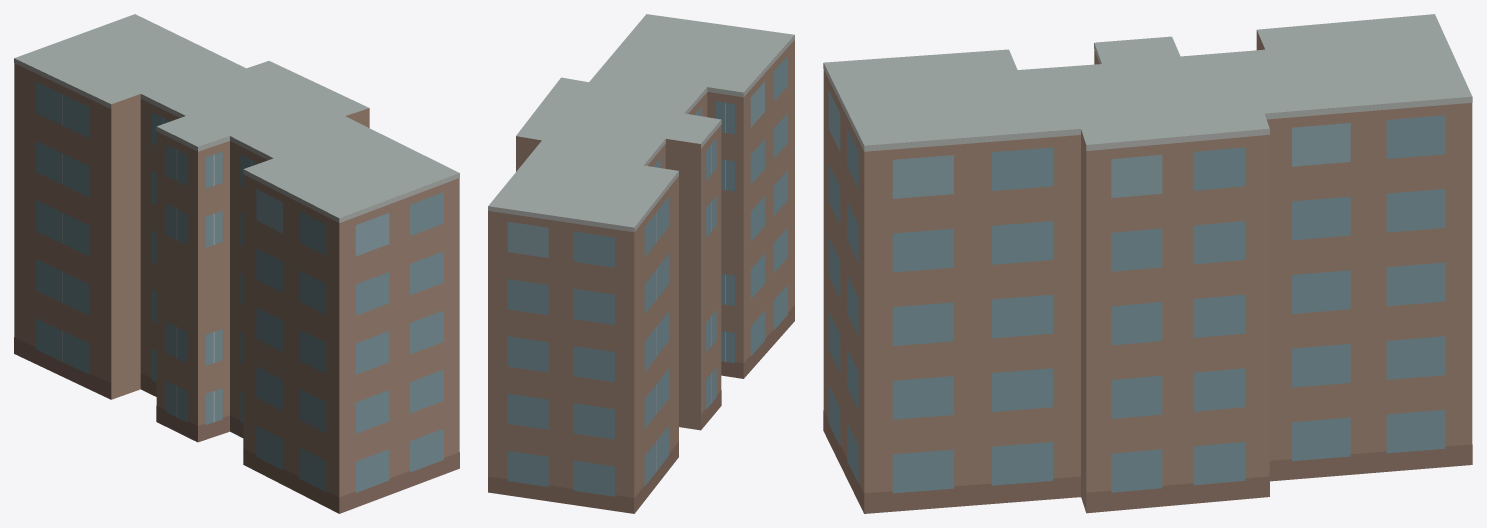
File: survey-upis-32751212.glb
3 views of the same model, side by side, from view 1: azimuth 30°, elevation 25°; view 2: azimuth 150°, elevation 25°; view 3: azimuth 270°, elevation 25° (orthographic). The views are drawn at different scales.
Parts seen in each view (by area): view 1: survey-upis-32751212.tmp; view 2: survey-upis-32751212.tmp; view 3: survey-upis-32751212.tmp.
Boxes of the visible parts, x1,y1,x2,y2 form: survey-upis-32751212.tmp: [14, 14, 459, 513]; survey-upis-32751212.tmp: [488, 14, 794, 513]; survey-upis-32751212.tmp: [823, 14, 1472, 513].
Bounding box in the file's own units: 11.44 × 14.9 × 23.82.
